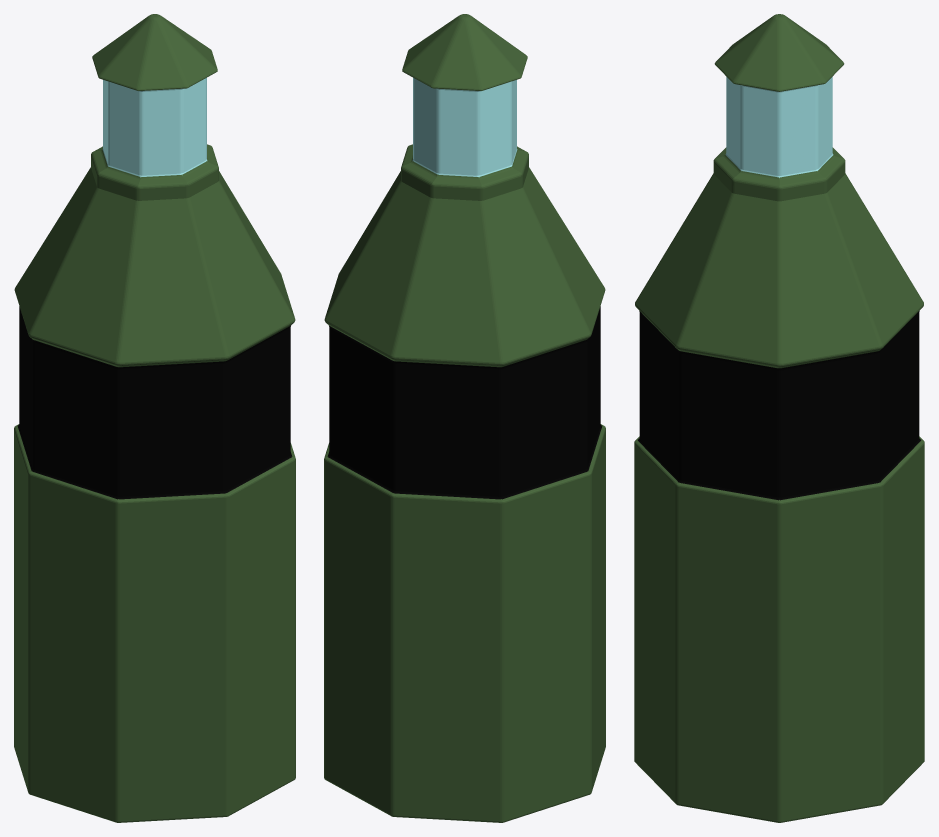
File: Beacon_04.fbx
The picture shows the model from 3 angles, left to right: view 1: azimuth 30°, elevation 25°; view 2: azimuth 150°, elevation 25°; view 3: azimuth 270°, elevation 25°; orthographic projection.
Visible parts, largest first — view 1: Cylinder; view 2: Cylinder; view 3: Cylinder.
Part boxes in pixels (x1,y1,x2,y2): Cylinder: (14, 14, 295, 822); Cylinder: (324, 14, 605, 822); Cylinder: (634, 14, 924, 822).
Size of the model in its own units: 327 by 927 by 327.
